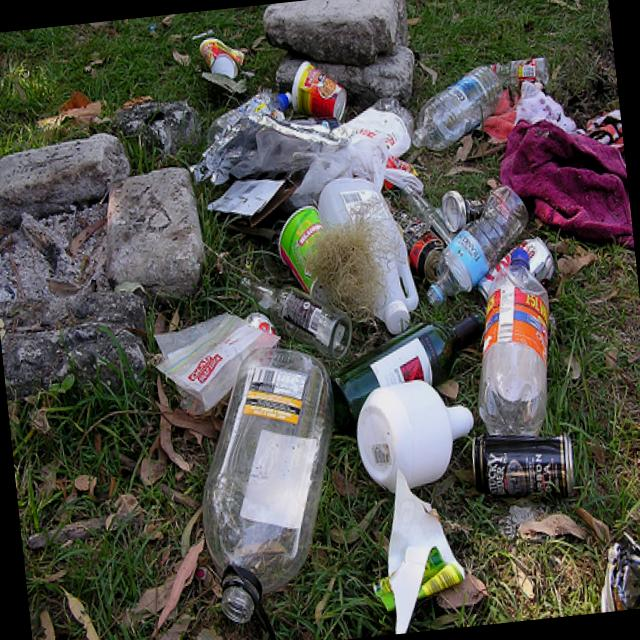garbage: (128, 24, 640, 640)
